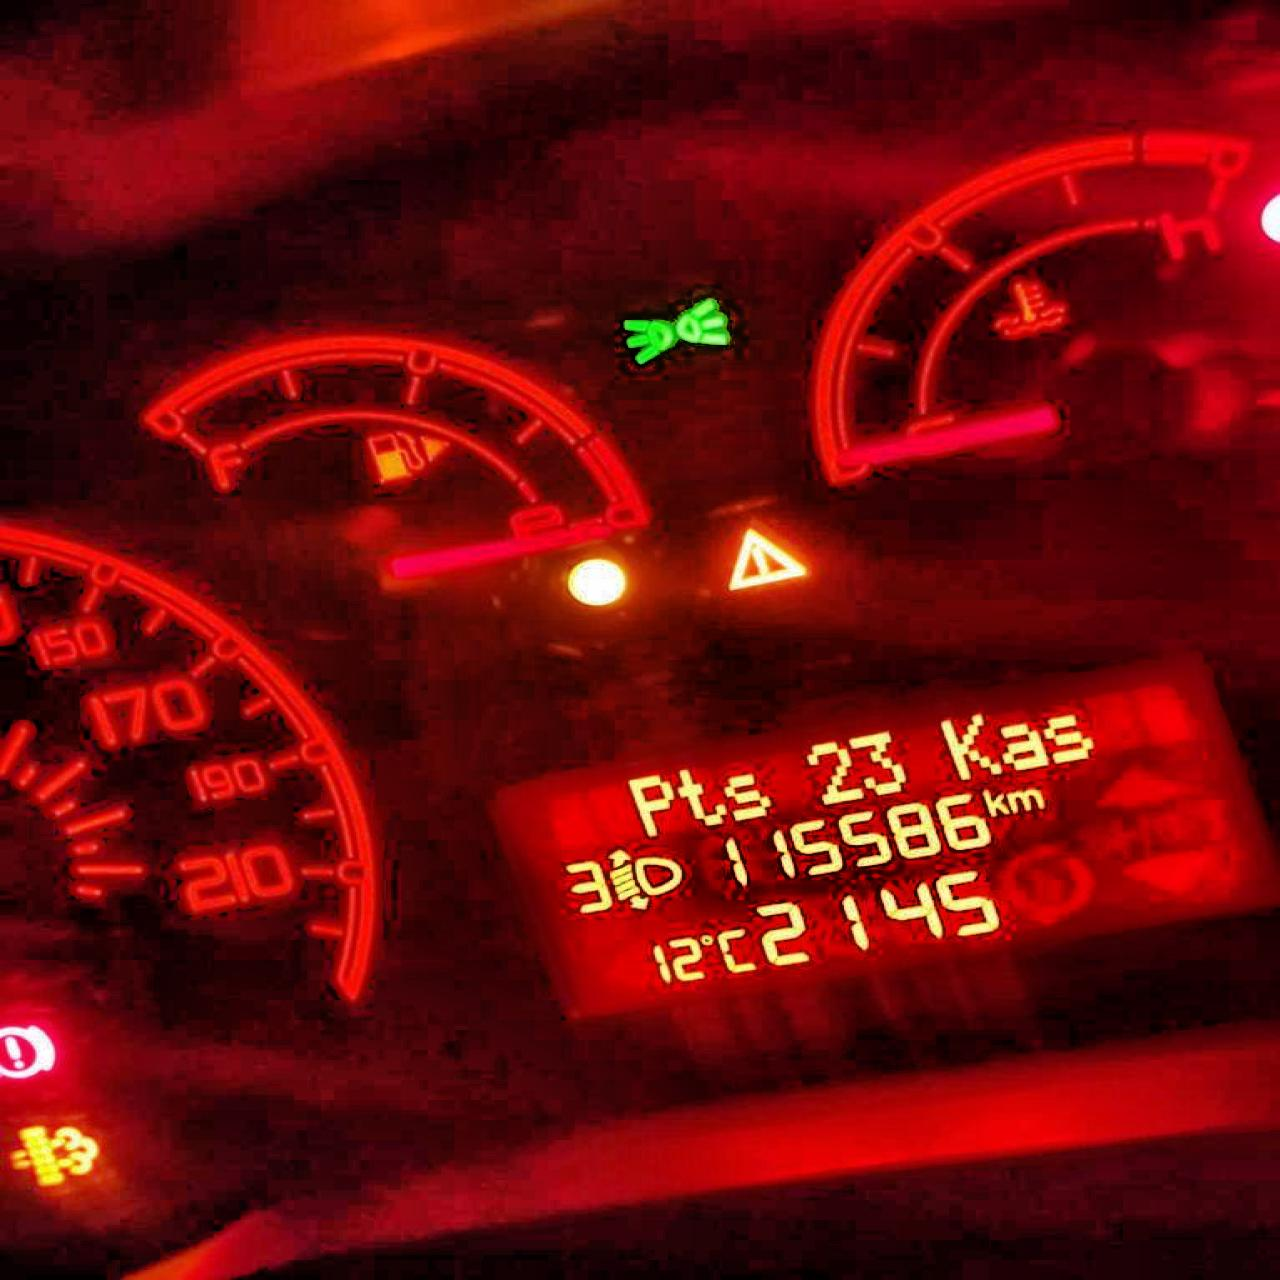1: (839, 891, 870, 951), (720, 836, 749, 886), (770, 828, 797, 878), (651, 942, 672, 983)
2: (804, 740, 863, 805), (754, 900, 810, 966), (665, 935, 707, 981)
3: (845, 729, 907, 795), (563, 859, 613, 912)
4: (877, 880, 944, 939)
5: (932, 869, 1001, 935), (787, 817, 844, 874), (836, 809, 892, 866)
6: (932, 791, 990, 850)
8: (884, 799, 942, 859)
X: (938, 713, 1001, 779), (625, 774, 673, 836), (678, 768, 727, 826), (1041, 713, 1095, 763), (999, 721, 1048, 770), (722, 772, 770, 822), (715, 926, 757, 974), (1005, 788, 1043, 812), (979, 788, 1008, 817)
odometer: (483, 656, 1276, 1023)
